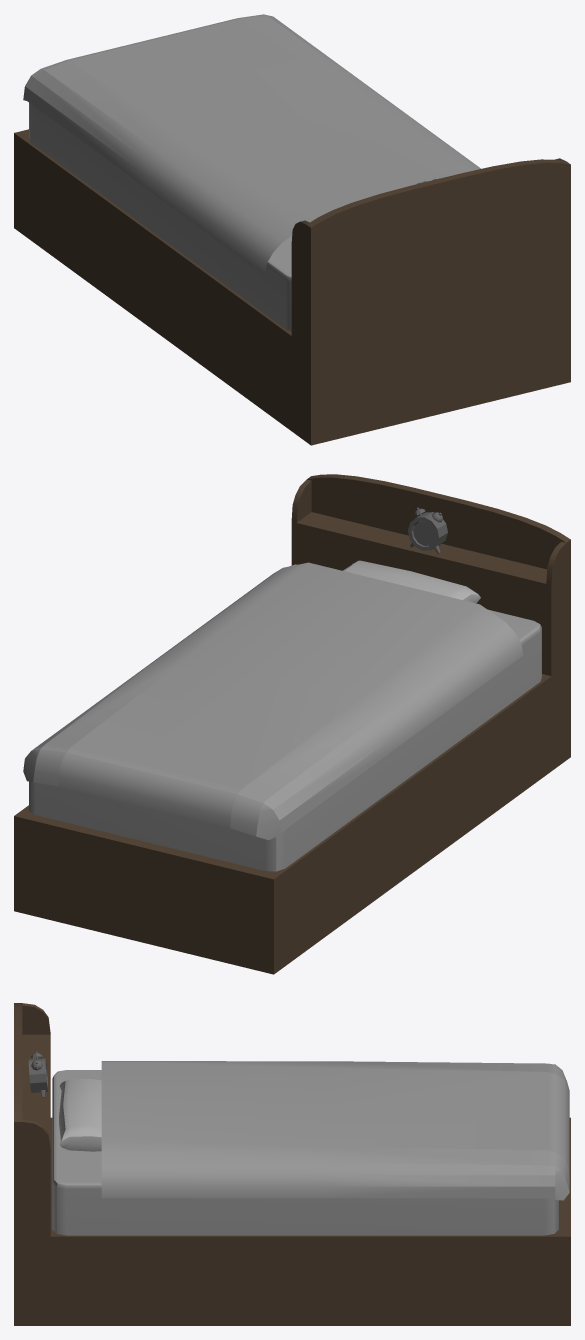
File: bed.fbx
3 views of the same model, one above another, from view 1: azimuth 30°, elevation 25°; view 2: azimuth 150°, elevation 25°; view 3: azimuth 270°, elevation 25° (orthographic). The views are drawn at different scales.
Parts seen in each view (by area): view 1: pCube4, pPlane7, pCube5; view 2: pCube4, pPlane7, pCube5, pCube6, polySurface2; view 3: pPlane7, pCube4, pCube5, pCube6, polySurface2.
Part boxes in pixels (x1,y1,x2,y2): pCube4: (14,129,570,445); pPlane7: (23,14,480,274); pCube5: (29,103,291,330); pCube4: (14,474,570,974); pPlane7: (23,562,522,840); pCube5: (29,564,541,871); pCube6: (342,560,480,603); polySurface2: (408,507,447,553); pPlane7: (101,1061,569,1200); pCube4: (14,1003,570,1325); pCube5: (52,1070,558,1235); pCube6: (59,1079,101,1151); polySurface2: (28,1051,48,1097).
Size of the model in its own units: 100 by 85 by 198.
